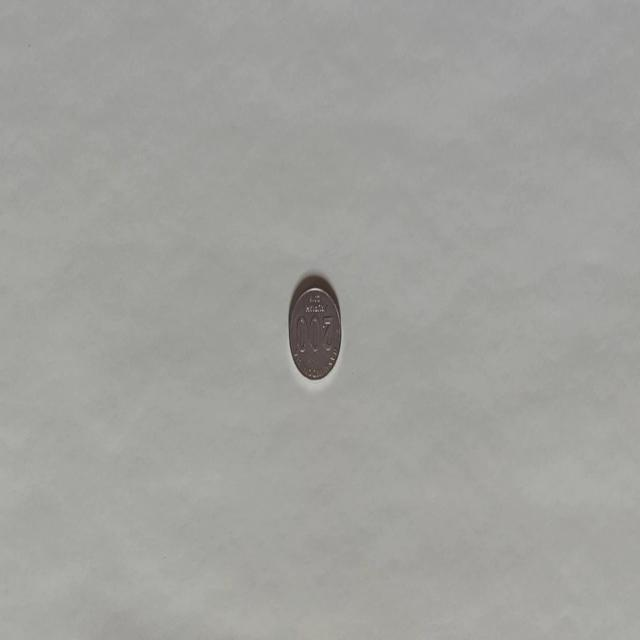dua ratus rupiah: (286, 280, 342, 382)
